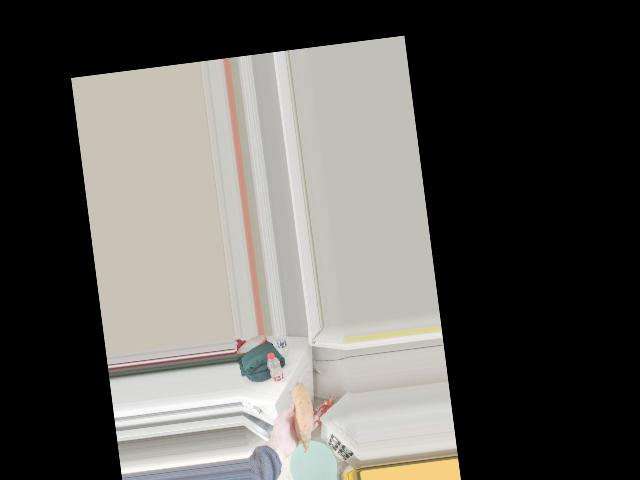sweet_potato: (285, 389, 313, 440)
